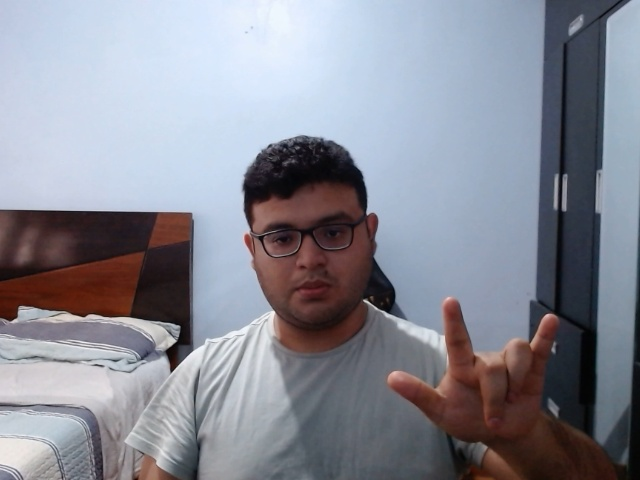I love you: (380, 294, 562, 458)
